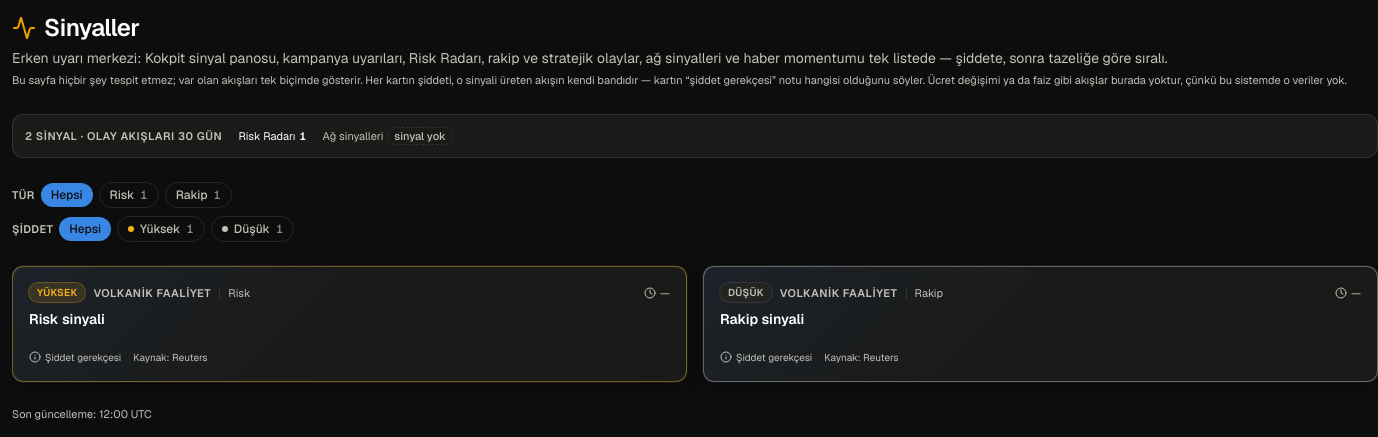
Test: SignalsClient › filters by kind and by severity, and can be cleared
This screenshot has width=1378, height=437.
Expected: the text "Risk sinyali" is shown, [29,310,105,328]
Expected: the text "Rakip sinyali" is shown, [720,310,804,328]
Click the button "Rakip 1" at [198, 195], box [165,182,232,208]
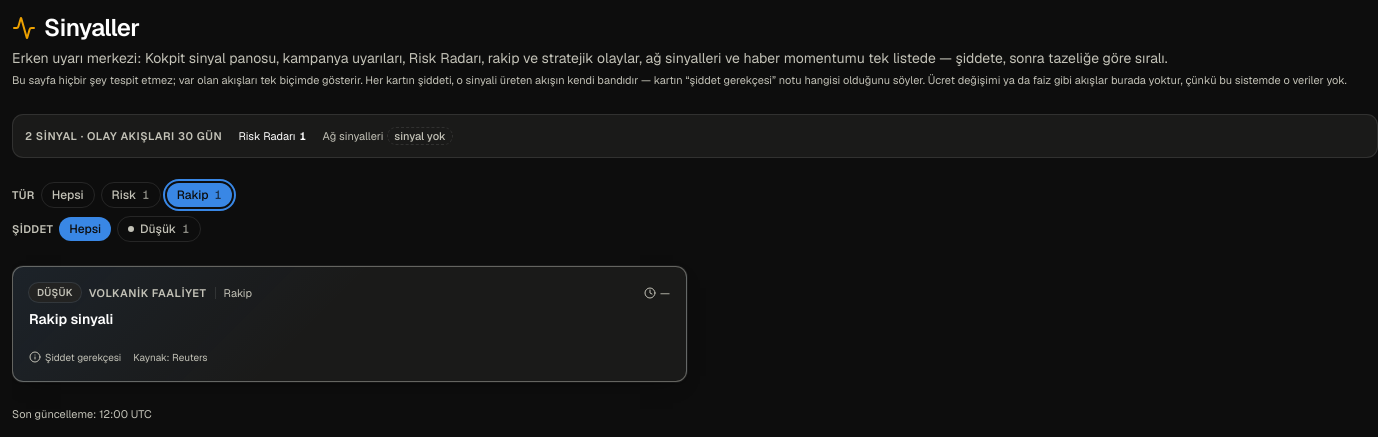
Expected: the text "Rakip sinyali" is shown, [29,310,113,328]
Expected: the text "Risk sinyali" is gone
Note: "Hepsi" on the kind row clears that axis and nothing else.
Click the button "Hepsi" next to "Tür" at [68, 195], box [41,182,94,208]
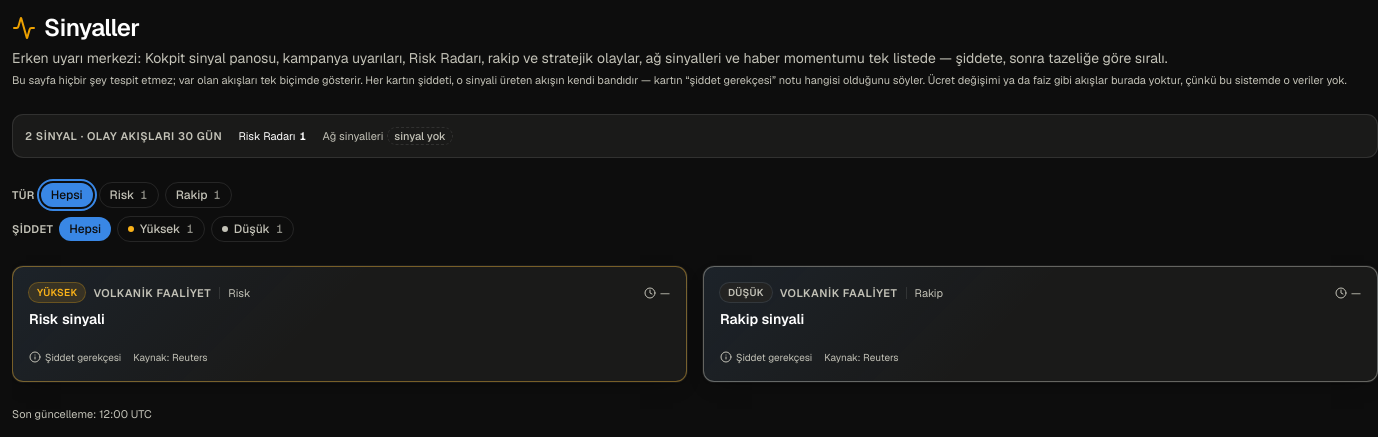
Expected: the text "Risk sinyali" is shown, [29,310,105,328]
